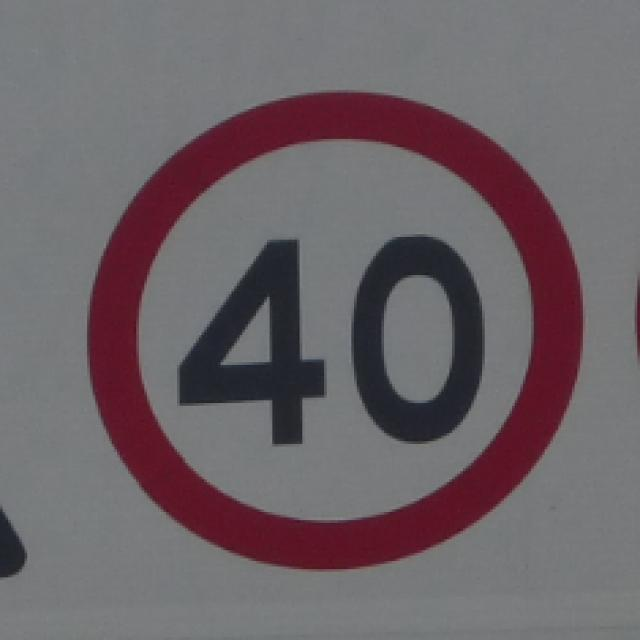Speed: (82, 85, 590, 575)
